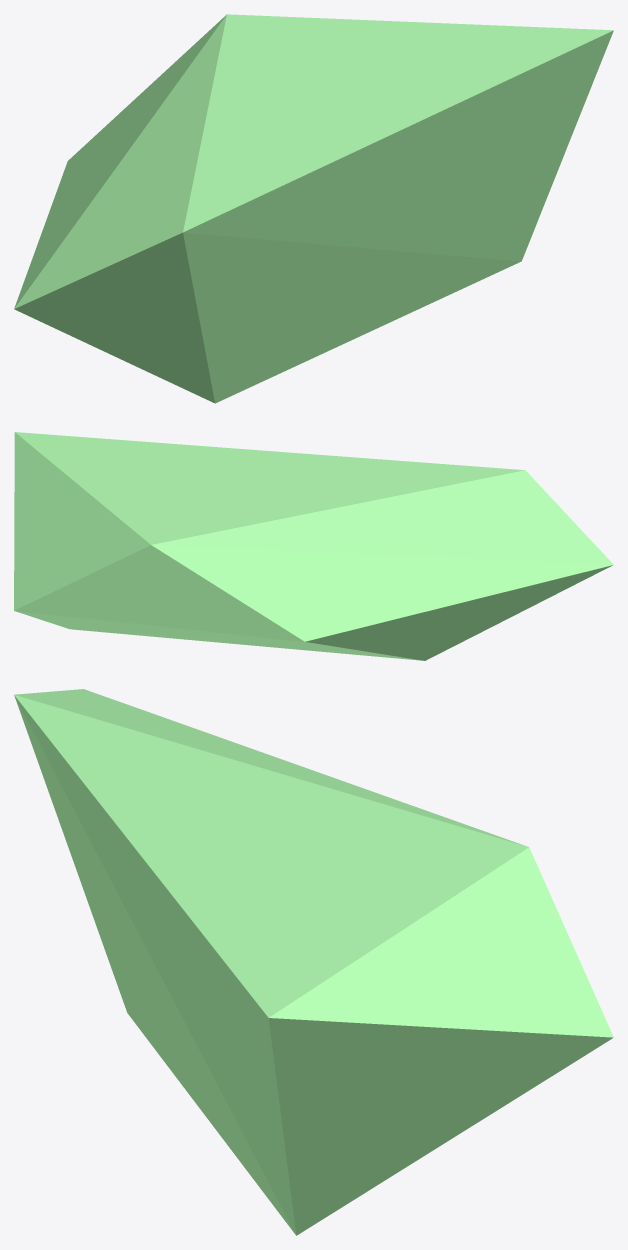
Rendered from linkhou_LR4_R560_link3_respondable_coll_3.dae.
3 views of the same model, one above another, from view 1: azimuth 30°, elevation 25°; view 2: azimuth 150°, elevation 25°; view 3: azimuth 270°, elevation 25° (orthographic). The views are drawn at different scales.
Parts seen in each view (by area): view 1: Node_00000209DB3AC770; view 2: Node_00000209DB3AC770; view 3: Node_00000209DB3AC770.
Part boxes in pixels (<box>): Node_00000209DB3AC770: <box>14,14,613,403</box>; Node_00000209DB3AC770: <box>14,432,613,660</box>; Node_00000209DB3AC770: <box>14,689,613,1235</box>.
Bounding box in the file's own units: 0.0424 × 0.0135 × 0.0269.
